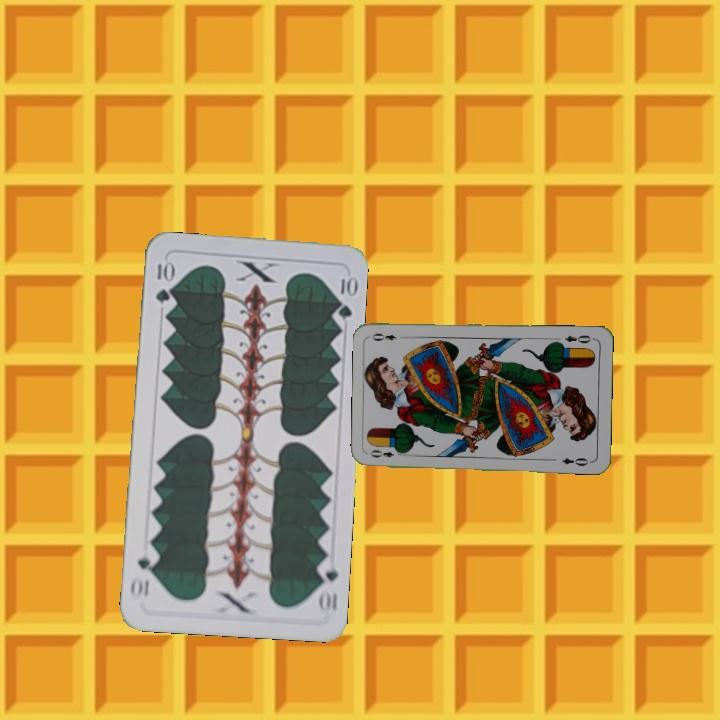EO: (366, 446, 406, 460), (561, 331, 597, 345)
G10: (313, 556, 341, 616), (151, 256, 174, 306)
